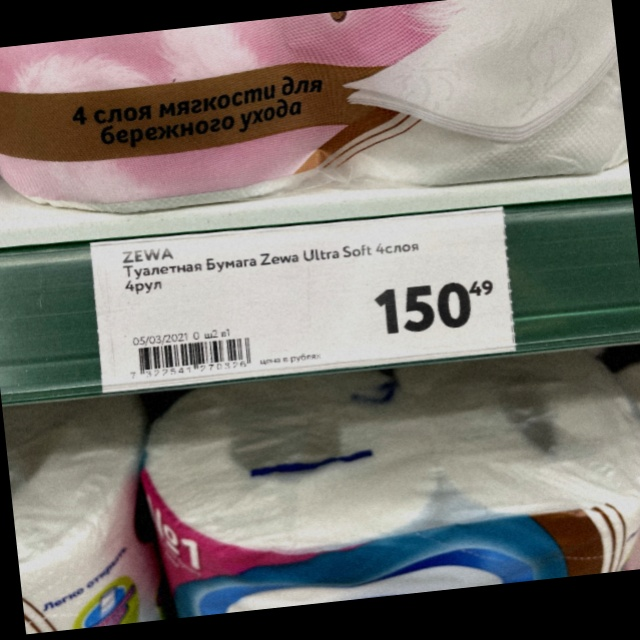barcode: (128, 335, 254, 379)
name: (121, 242, 422, 295)
price: (373, 278, 495, 337)
price_tag: (94, 207, 522, 395)
